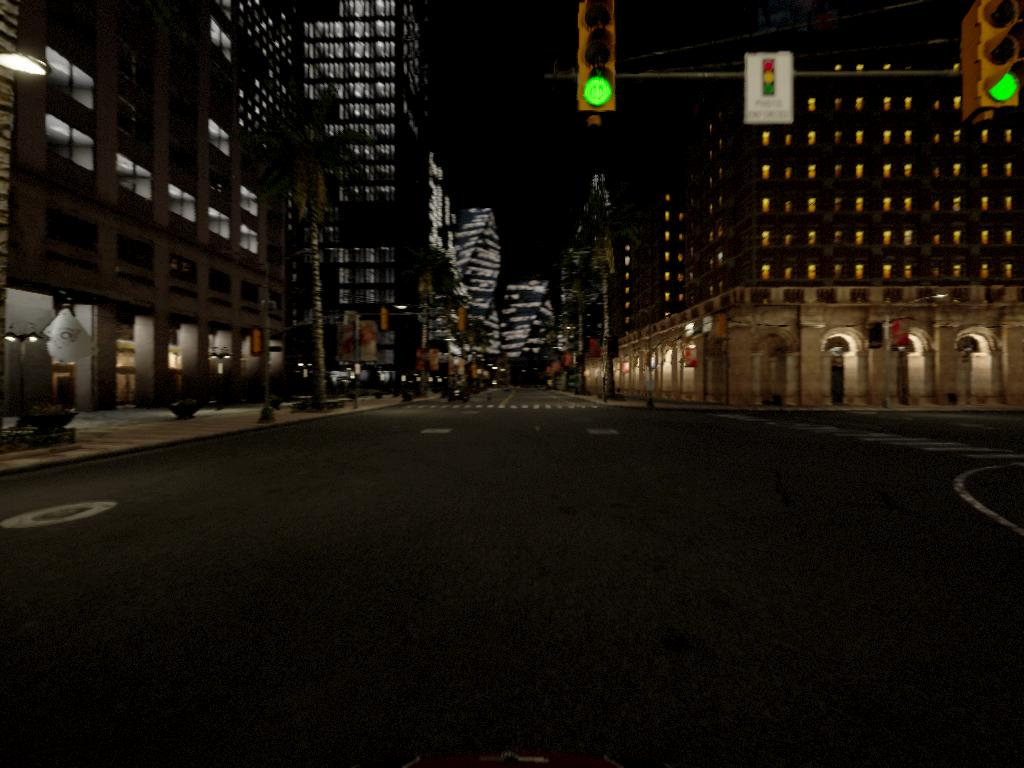traffic_light: (960, 2, 1024, 120), (577, 4, 621, 115)
